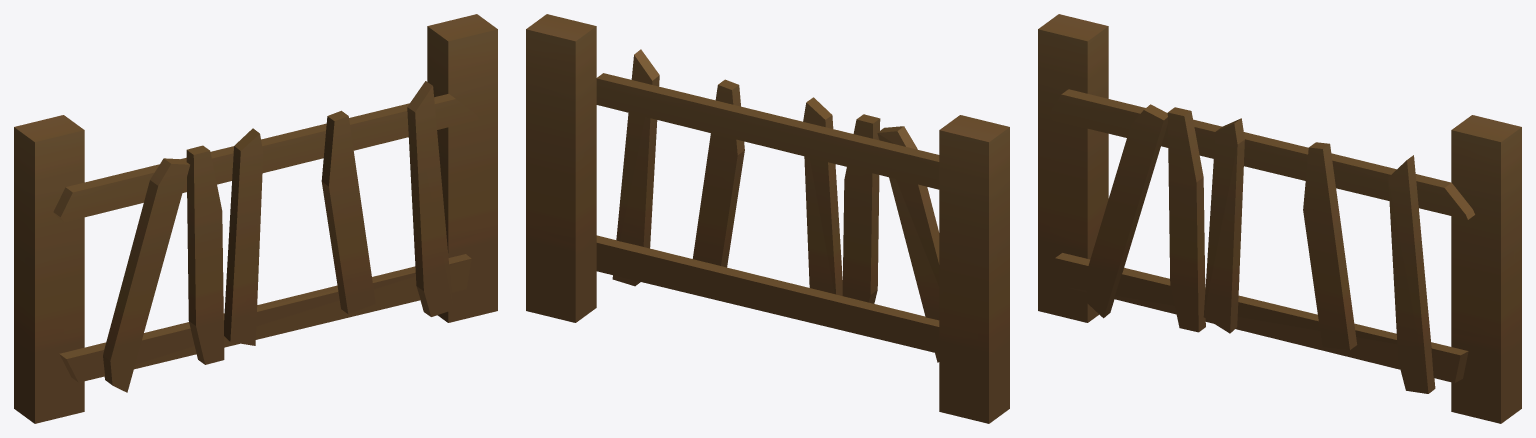
Rendered from pack04_fences_04.fbx.
3 views of the same model, side by side, from view 1: azimuth 30°, elevation 25°; view 2: azimuth 150°, elevation 25°; view 3: azimuth 330°, elevation 25° (orthographic).
Visible parts, largest first — view 1: Big_Fence_12; view 2: Big_Fence_12; view 3: Big_Fence_12.
Part boxes in pixels (x1,y1,x2,y2): Big_Fence_12: [14, 14, 497, 423]; Big_Fence_12: [526, 14, 1009, 423]; Big_Fence_12: [1038, 14, 1521, 423].
Bounding box in the file's own units: 98.59 × 57.31 × 13.36.
1 material, 1 textured.
